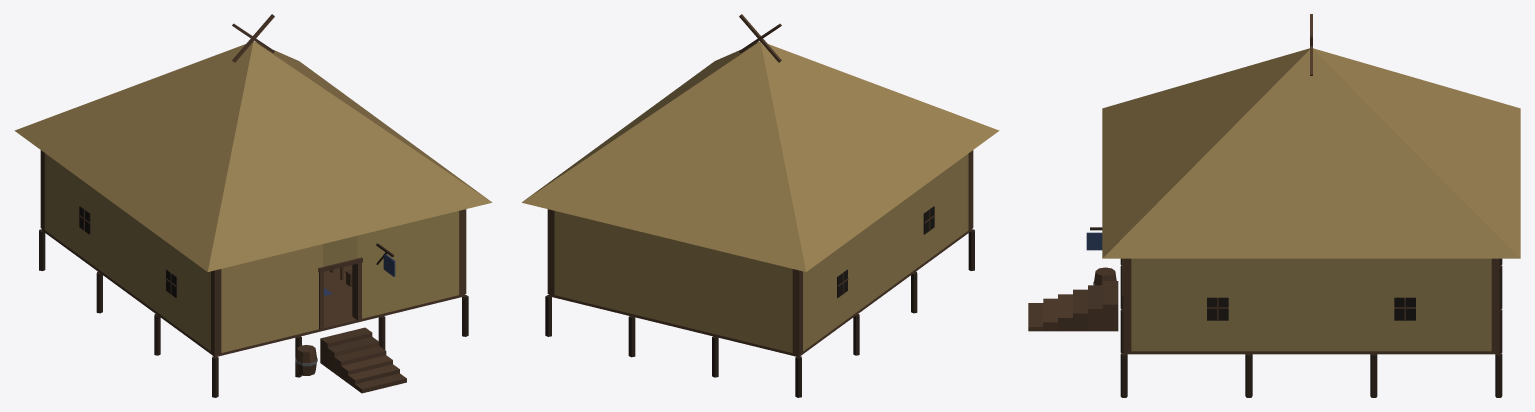
The model's file is walk_tidebound_tavern.glb.
3 views of the same model, side by side, from view 1: azimuth 30°, elevation 25°; view 2: azimuth 150°, elevation 25°; view 3: azimuth 270°, elevation 25° (orthographic). The views are drawn at different scales.
Parts seen in each view (by area): view 1: walk_tidebound_tavern_roof, walk_tidebound_tavern; view 2: walk_tidebound_tavern_roof, walk_tidebound_tavern; view 3: walk_tidebound_tavern_roof, walk_tidebound_tavern.
Boxes of the visible parts, box(x1,y1,x2,y2) form: walk_tidebound_tavern_roof: box(14, 14, 491, 271); walk_tidebound_tavern: box(39, 150, 468, 397); walk_tidebound_tavern_roof: box(522, 14, 999, 271); walk_tidebound_tavern: box(545, 150, 974, 397); walk_tidebound_tavern_roof: box(1102, 14, 1520, 258); walk_tidebound_tavern: box(1028, 227, 1502, 397).
Size of what is drawn, in the model's own units: 11.4 by 10.84 by 15.77.
Materials: 2 (2 with a texture image).
